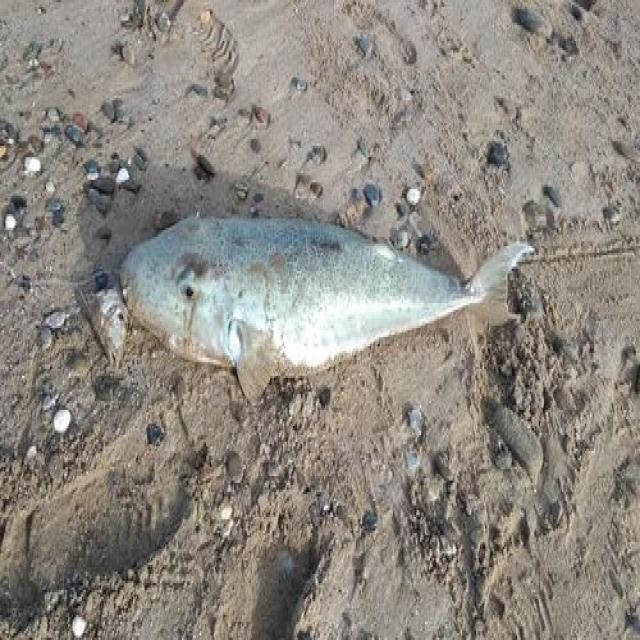Balik: (122, 219, 532, 398)
